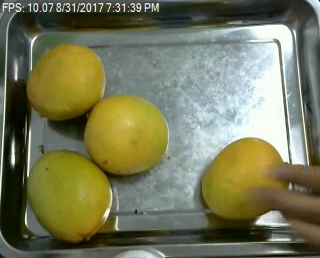Mango: (26, 150, 111, 242), (201, 137, 288, 219), (83, 94, 168, 174), (27, 44, 106, 120)
